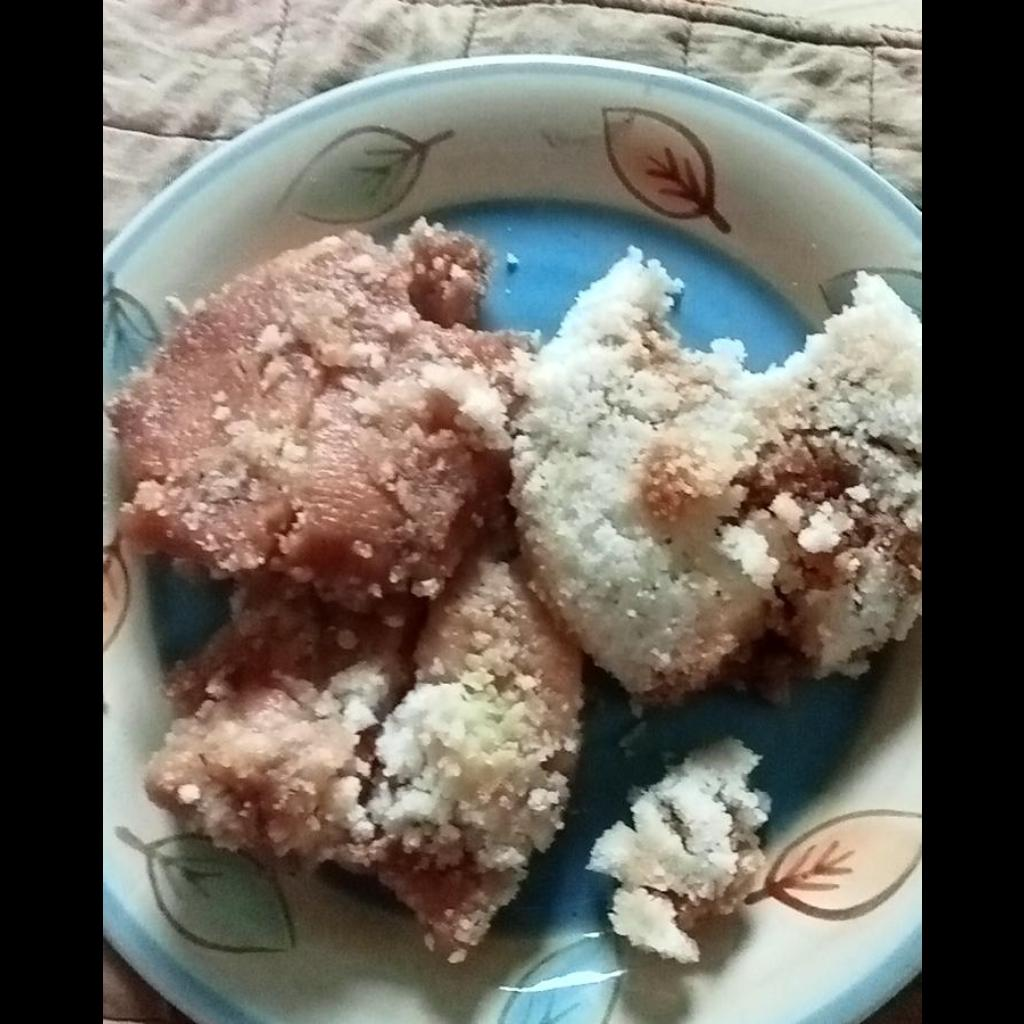sweets: (106, 218, 920, 962)
